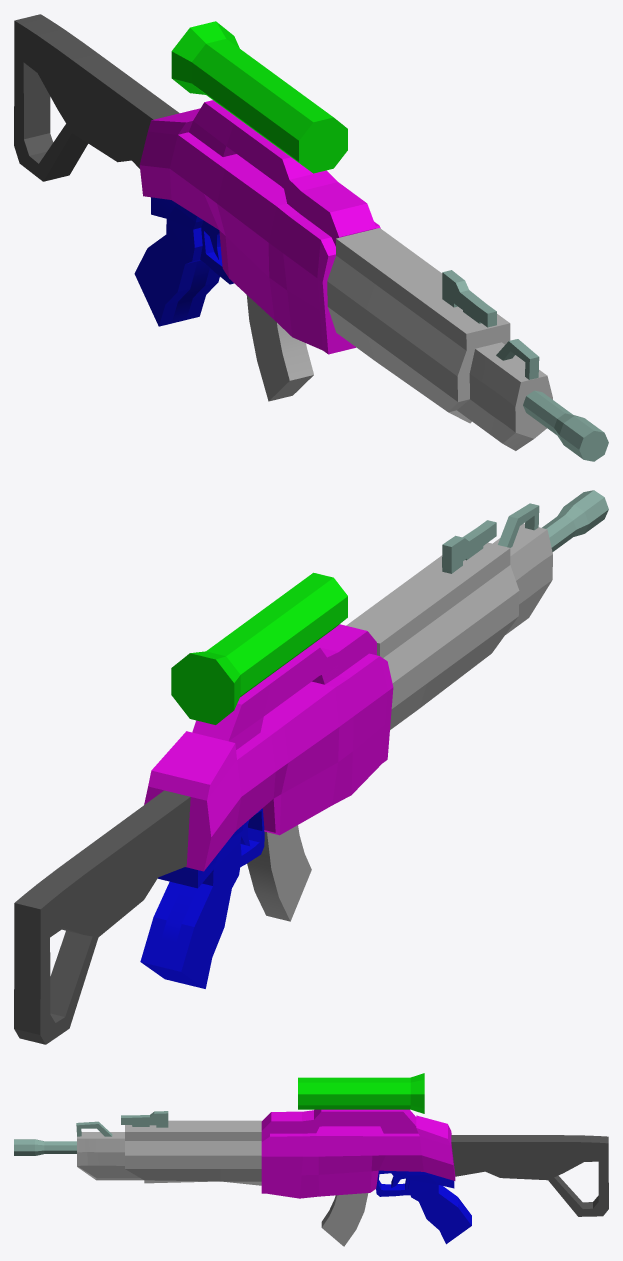
File: Gun.fbx
3 views of the same model, one above another, from view 1: azimuth 30°, elevation 25°; view 2: azimuth 150°, elevation 25°; view 3: azimuth 270°, elevation 25° (orthographic). The views are drawn at different scales.
Visible parts, largest first — view 1: polySurface39; view 2: polySurface39; view 3: polySurface39.
Boxes of the visible parts, bbox=[...] form: polySurface39: bbox=[14, 14, 608, 461]; polySurface39: bbox=[14, 490, 608, 1044]; polySurface39: bbox=[14, 1073, 608, 1246].
Bounding box in the file's own units: 0.7568 × 3.25 × 10.47.
